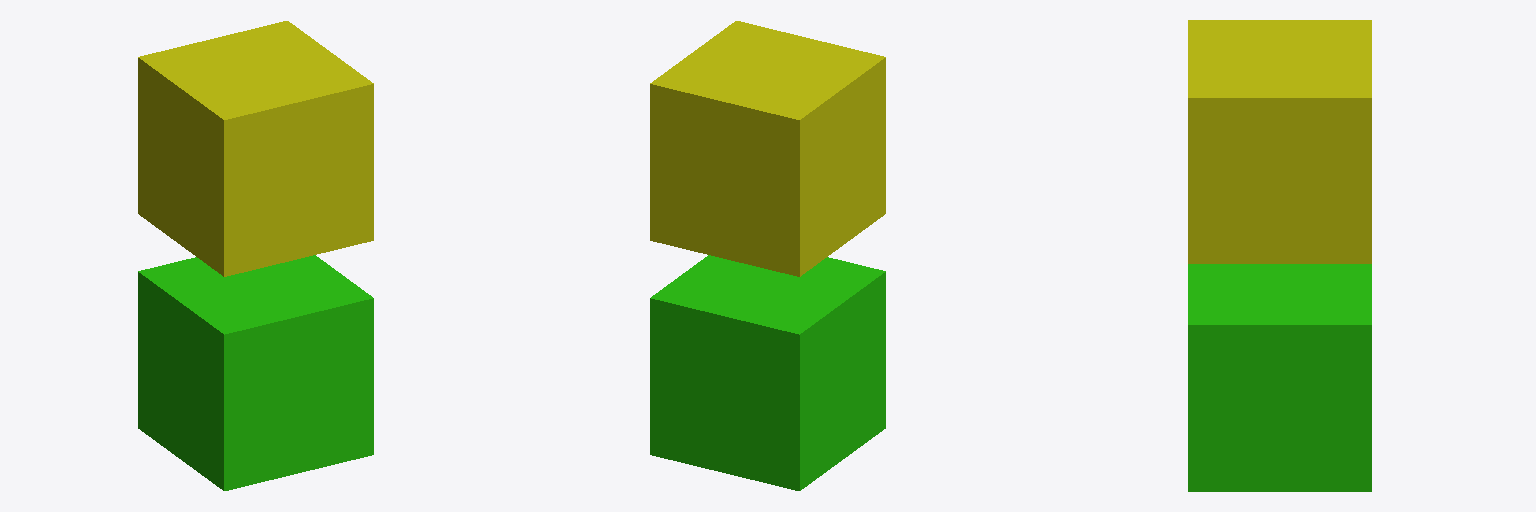
robot.urdf — Cartesian_control_URDF:
<robot
  name="Cartesian_control_URDF" version="1.0">

  <!-- Robot  -->

  <!-- Base link -->
  <link
    name="base_link2">
    <inertial>
      <mass value="0.0" />
      <inertia ixx = "0" ixy = "0" ixz = "0"
               iyx = "0" iyy = "0" iyz = "0"
               izx = "0" izy = "0" izz = "0" />
    </inertial>
  </link>

  <link name="z_control_link">
    <inertial>
      <mass value="0.01" />
      <inertia ixx = "0" ixy = "0" ixz = "0"
               iyx = "0" iyy = "0" iyz = "0"
               izx = "0" izy = "0" izz = "0" />
    </inertial>
    <visual>
      <origin rpy="0 0 0" xyz="0 0 0"/>
      <geometry>
        <mesh filename="cube.obj" scale="0.0015 0.0015 0.0015"/>
      </geometry>
      <material name="blockmat1">
        <color rgba="0.2 0.8 0.1 1"/>
      </material>
    </visual>
  </link>

  <joint name="z_control_joint" type="prismatic">
    <parent link="base_link2"/>
    <child link="z_control_link"/>
    <axis xyz="0 0 1"/>
    <limit effort="1000.0" lower="-3" upper="3" velocity="2"/>
  </joint>

  <link name="y_control_link">
    <inertial>
      <mass value="0.01" />
      <inertia ixx = "0" ixy = "0" ixz = "0"
               iyx = "0" iyy = "0" iyz = "0"
               izx = "0" izy = "0" izz = "0" />
    </inertial>
    <visual>
      <origin rpy="0 0 0" xyz="0 0 0"/>
      <geometry>
        <mesh filename="cube.obj" scale="0.0015 0.0015 0.0015"/>
      </geometry>
      <material name="blockmat2">
        <color rgba="0.1 0.2 0.8 1"/>
      </material>
    </visual>
  </link>

  <joint name="y_control_joint" type="prismatic">
    <parent link="z_control_link"/>
    <child link="y_control_link"/>
    <axis xyz="0 1 0"/>
    <limit effort="1000.0" lower="-3" upper="3" velocity="2"/>
  </joint>

  <link name="x_control_link">
    <inertial>
      <mass value="0.01" />
      <inertia ixx = "0" ixy = "0" ixz = "0"
               iyx = "0" iyy = "0" iyz = "0"
               izx = "0" izy = "0" izz = "0" />
    </inertial>
    <visual>
      <origin rpy="0 0 0" xyz="0 0 0"/>
      <geometry>
        <mesh filename="cube.obj" scale="0.0015 0.0015 0.0015"/>
      </geometry>
      <material name="blockmat3">
        <color rgba="0.8 0.2 0.1 1"/>
      </material>
    </visual>
  </link>

  <joint name="x_control_joint" type="prismatic">
    <parent link="y_control_link"/>
    <child link="x_control_link"/>
    <axis xyz="1 0 0"/>
    <limit effort="1000.0" lower="-3" upper="3" velocity="2"/>
  </joint>

  <link name="orient_link">
    <inertial>
      <mass value="0.01" />
      <inertia ixx = "0" ixy = "0" ixz = "0"
               iyx = "0" iyy = "0" iyz = "0"
               izx = "0" izy = "0" izz = "0" />
    </inertial>
    <visual>
      <origin rpy="0 0 0" xyz="0 0 0"/>
      <geometry>
        <mesh filename="cube.obj" scale="0.0015 0.0015 0.0015"/>
      </geometry>
      <material name="blockmat4">
        <color rgba="0.8 0.8 0.1 1"/>
      </material>
    </visual>
  </link>

  <joint name="orient_joint" type="fixed">
    <parent link="x_control_link"/>
    <child link="orient_link"/>
    <origin rpy="0.0 0.0 0.0" xyz="0.0 0.0 0.0615"/>
  </joint>





  <!--################################################
  ########          connect model                #####
  ####################################################-->

  <!-- connect arm to world -->
  <link name="world"/>
  <joint name="world_joint" type="fixed">
    <parent link="world"/>
    <child link="base_link2"/>
    <origin rpy="0.0 0.0 0.0" xyz="0.0 0.0 0.0"/>
  </joint>
</robot>

--- Render facts (derived) ---
The picture shows the robot from 3 angles, left to right: view 1: azimuth 30°, elevation 25°; view 2: azimuth 150°, elevation 25°; view 3: azimuth 270°, elevation 25°; orthographic projection.
Robot: Cartesian_control_URDF — 6 links, 5 joints (3 prismatic, 2 fixed); root link world; default pose: every joint at zero.
Links seen in each view (by area): view 1: orient_link, z_control_link; view 2: orient_link, z_control_link; view 3: orient_link, z_control_link.
Boxes of the visible links, <box> form: orient_link: <box>138,21,373,276</box>; z_control_link: <box>138,255,373,490</box>; orient_link: <box>650,21,885,276</box>; z_control_link: <box>650,255,885,490</box>; orient_link: <box>1188,20,1371,263</box>; z_control_link: <box>1188,264,1371,491</box>.
Size in the robot's own frame: 0.045 by 0.045 by 0.1065 metres.
Meshes: 1 distinct files referenced, 4 mesh visuals loaded (1 OBJ).